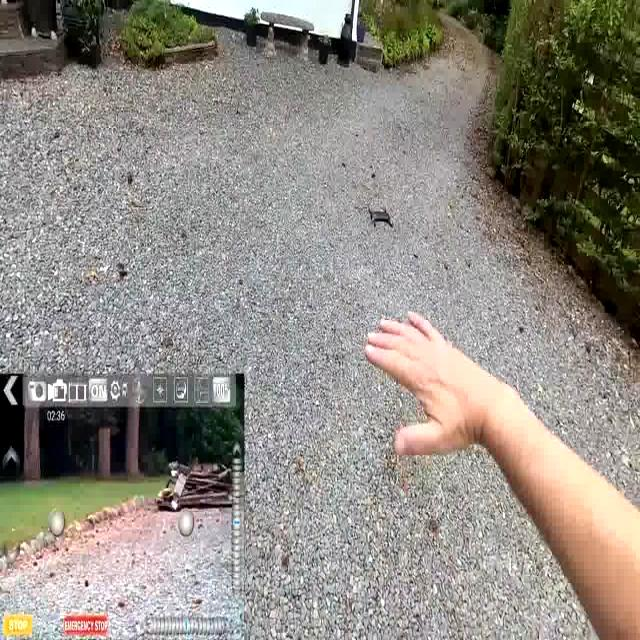drone: (364, 203, 396, 232)
